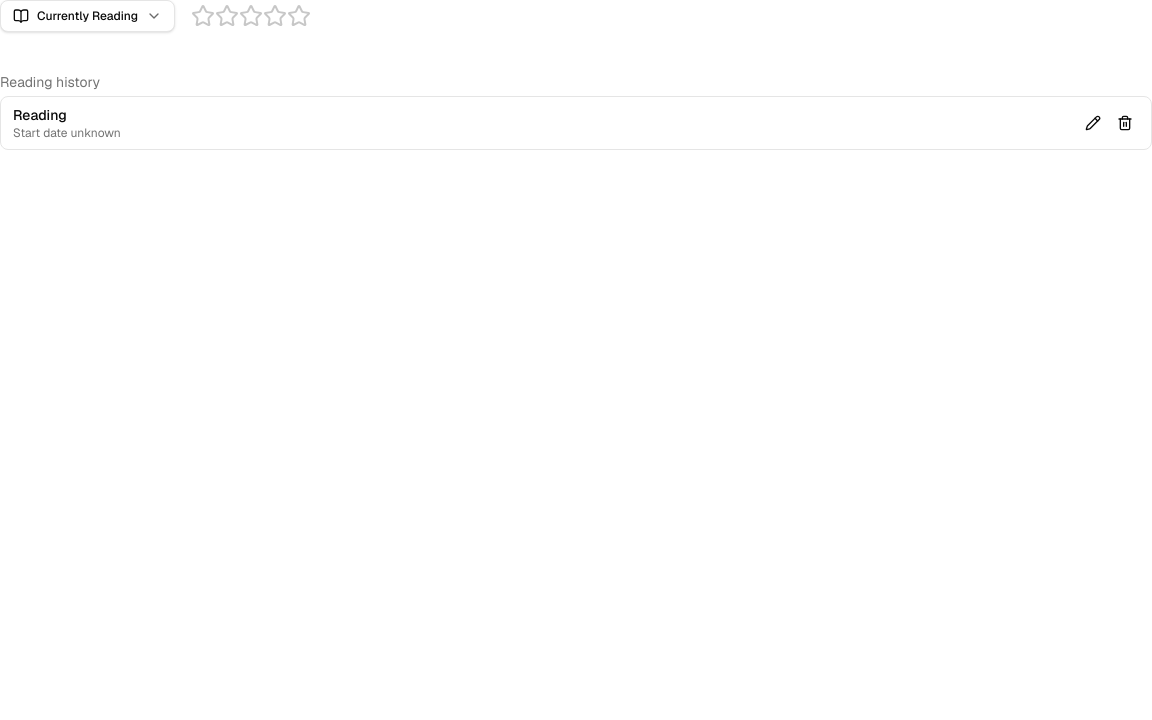
Test: ReadingHistory › says deleting the read underway resets the book and its To Read place
The width and height of the screenshot is (1152, 720).
Click the button named "Delete Read-through".
click(1125, 123)  # box top-left (1111, 109), bottom-right (1139, 137)
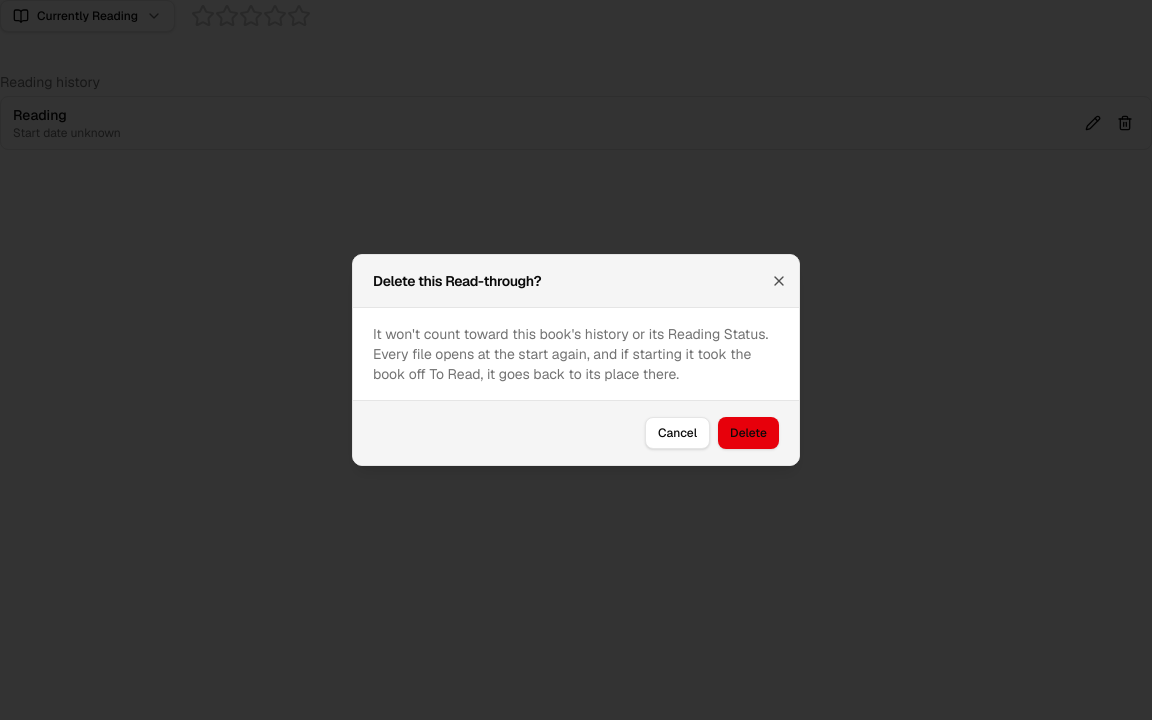
Expected: the text "Every file opens at the start again" is shown, top-left (373, 325), bottom-right (768, 383)
